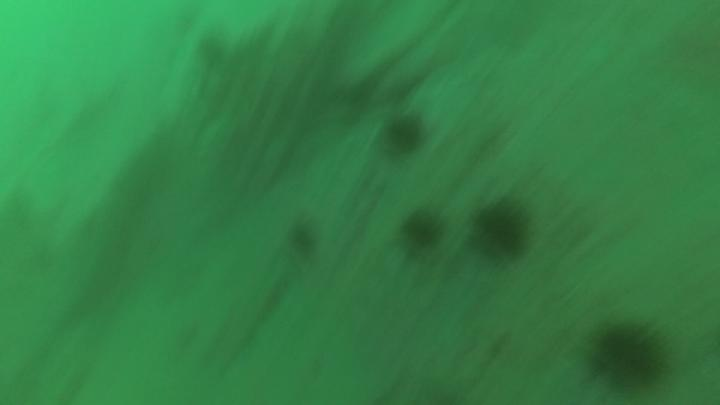echinus: (581, 314, 676, 397), (464, 194, 540, 267), (397, 199, 450, 254), (381, 111, 425, 160), (289, 219, 320, 266)
